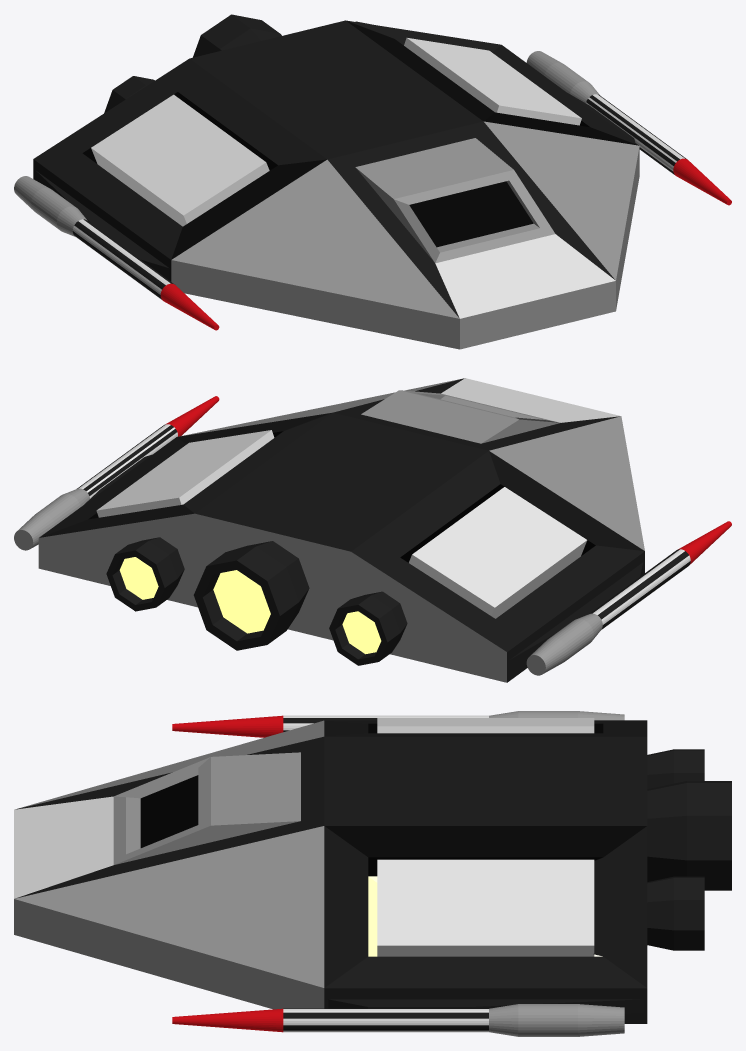
Rendered from antagonista.fbx.
3 renders of one model, top to bottom at view 1: azimuth 30°, elevation 25°; view 2: azimuth 150°, elevation 25°; view 3: azimuth 270°, elevation 25°, orthographic. The views are drawn at different scales.
Parts seen in each view (by area): view 1: Nave, Blasters, Boosters; view 2: Nave, Boosters, Blasters; view 3: Nave, Blasters, Boosters.
Part boxes in pixels (box(x1,y1,x2,y2)): Nave: box(33, 20, 639, 349); Blasters: box(14, 51, 731, 330); Boosters: box(104, 14, 369, 113); Nave: box(38, 378, 644, 682); Boosters: box(106, 537, 407, 665); Blasters: box(14, 396, 731, 675); Nave: box(14, 718, 647, 1023); Blasters: box(172, 711, 624, 1036); Boosters: box(647, 749, 731, 950).
Size of the model in its own units: 229 by 37.97 by 227.
